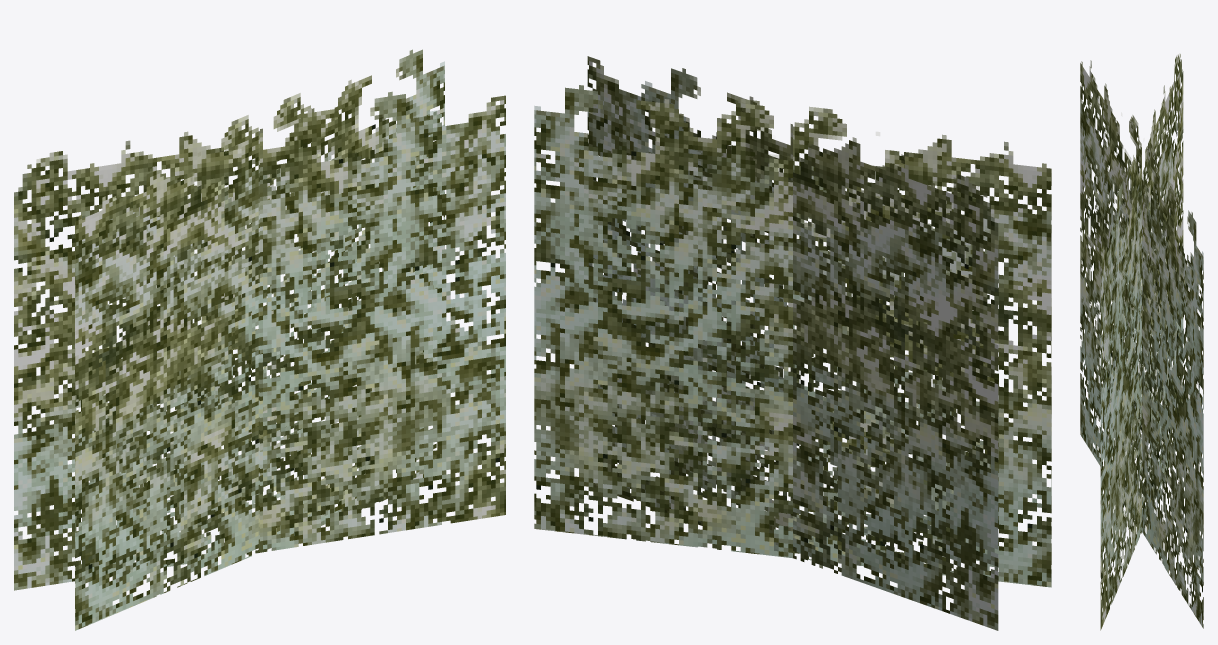
Rendered from bush_tall_overgrown_winter.glb.
3 renders of one model, left to right at view 1: azimuth 30°, elevation 25°; view 2: azimuth 150°, elevation 25°; view 3: azimuth 270°, elevation 25°, orthographic. The views are drawn at different scales.
Visible parts, largest first — view 1: bush_tall_overgrown_winter; view 2: bush_tall_overgrown_winter; view 3: bush_tall_overgrown_winter.
Boxes of the visible parts, <box> form: bush_tall_overgrown_winter: <box>14,49,505,630</box>; bush_tall_overgrown_winter: <box>534,56,1051,630</box>; bush_tall_overgrown_winter: <box>1080,54,1203,630</box>.
Bounding box in the file's own units: 2.09 × 2.06 × 0.5493.
Materials: 1 (1 with a texture image).
